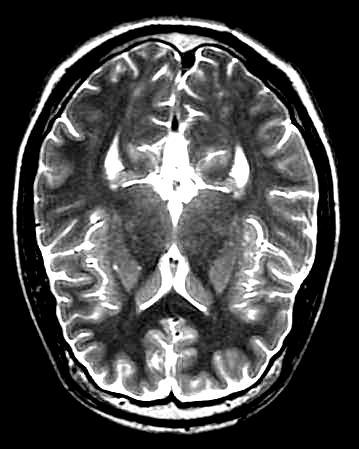Normal_Brain: (12, 1, 359, 449)
